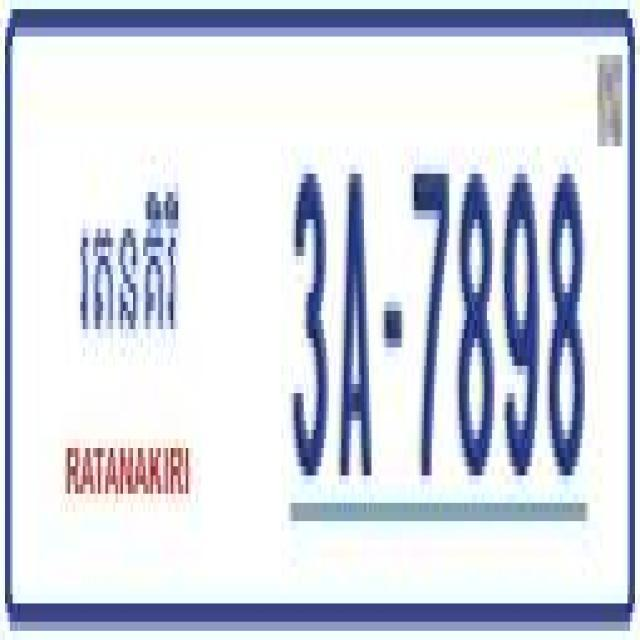Ratanakiri: (73, 165, 182, 354)
